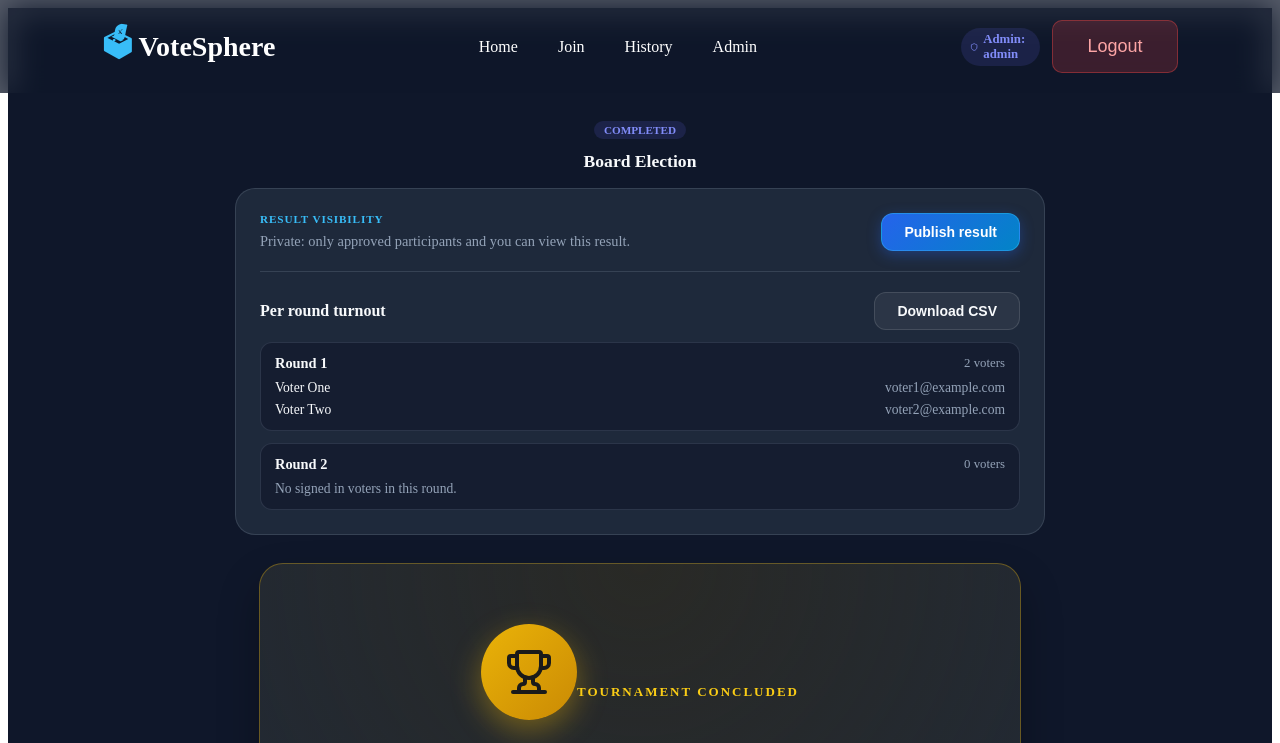
Scenario: Results page admin controls (AC-7, AC-12) › leaves the toggle alone and shows the server reason when the publish is refused
Click the button with test id "publish-results-toggle" at {"x": 951, "y": 232}, box top-left (881, 213), bottom-right (1020, 251)
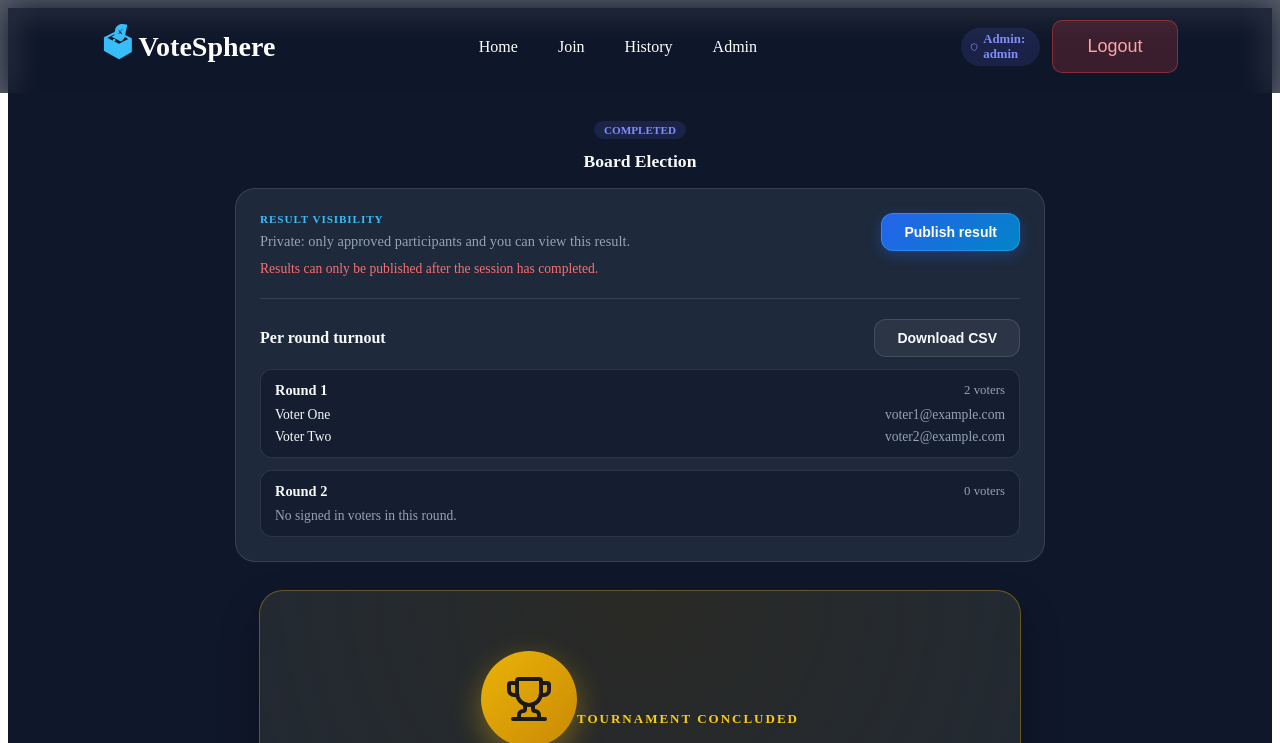
expect the message with test id "publish-results-error" reads "Results can only be published after the session has completed.": met, box top-left (260, 261), bottom-right (598, 276)
